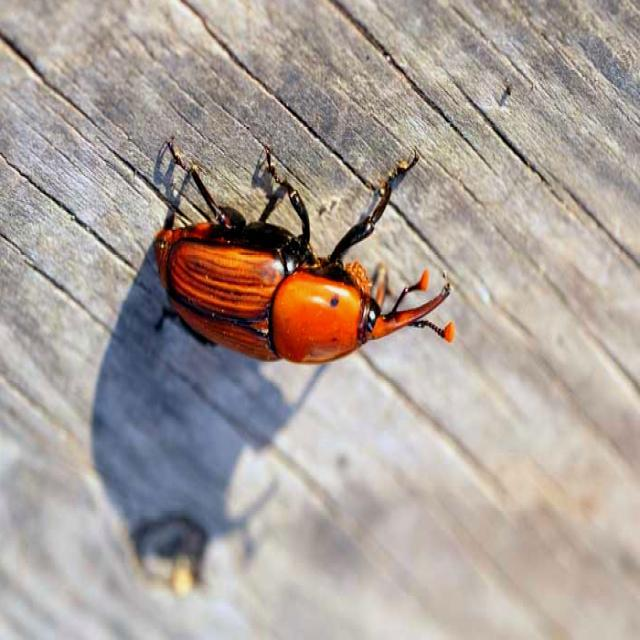Red-palm-weevil: (151, 206, 455, 371)
